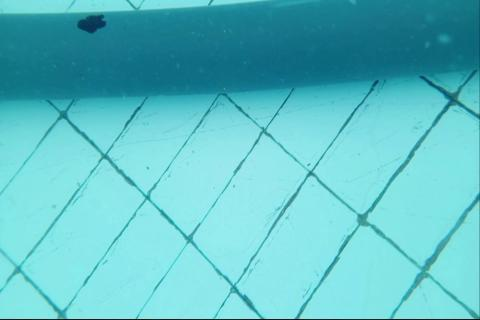kebocoran: (77, 14, 107, 35)
